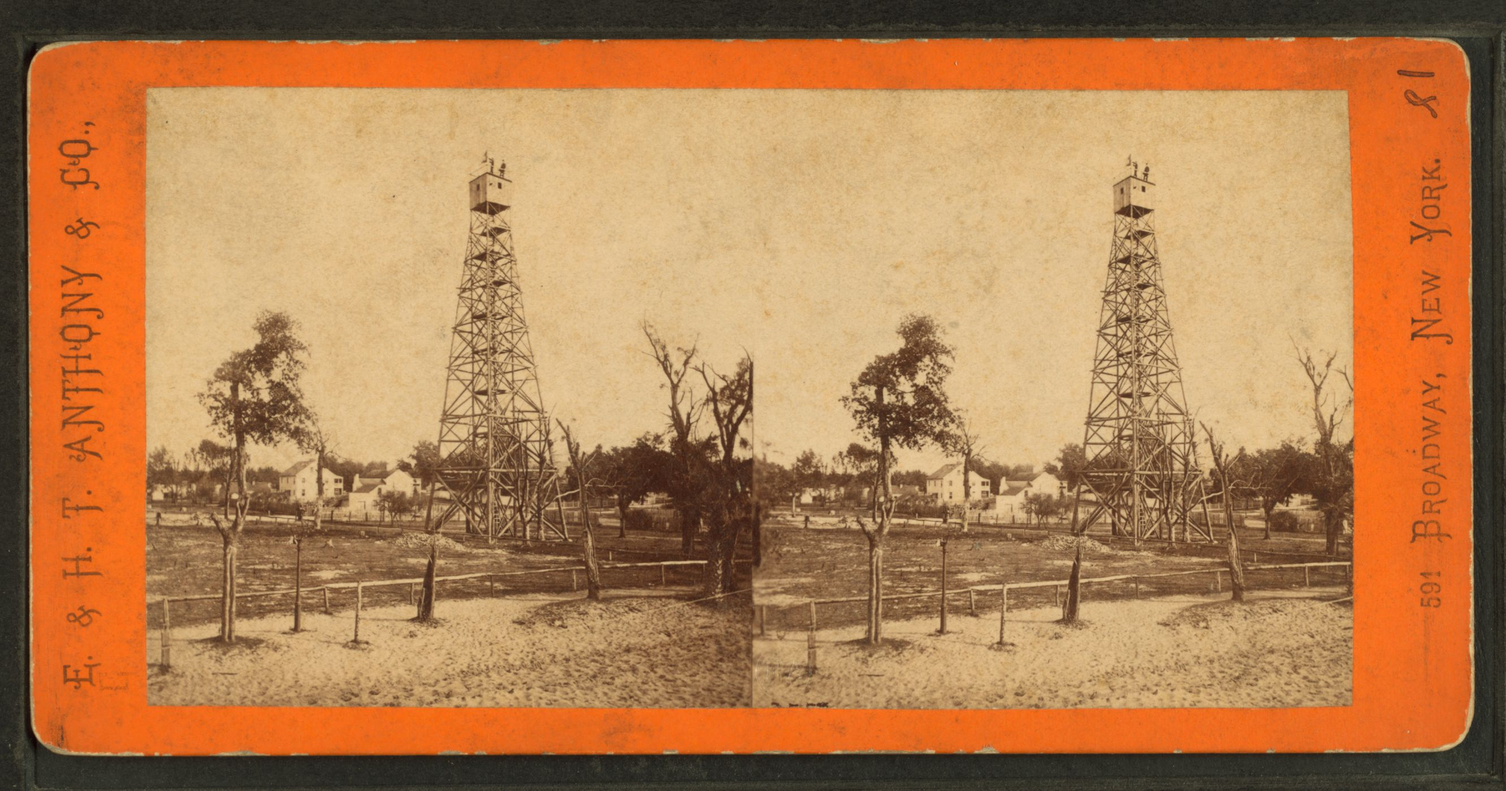half_image: (146, 86, 754, 707), (752, 91, 1352, 708)
